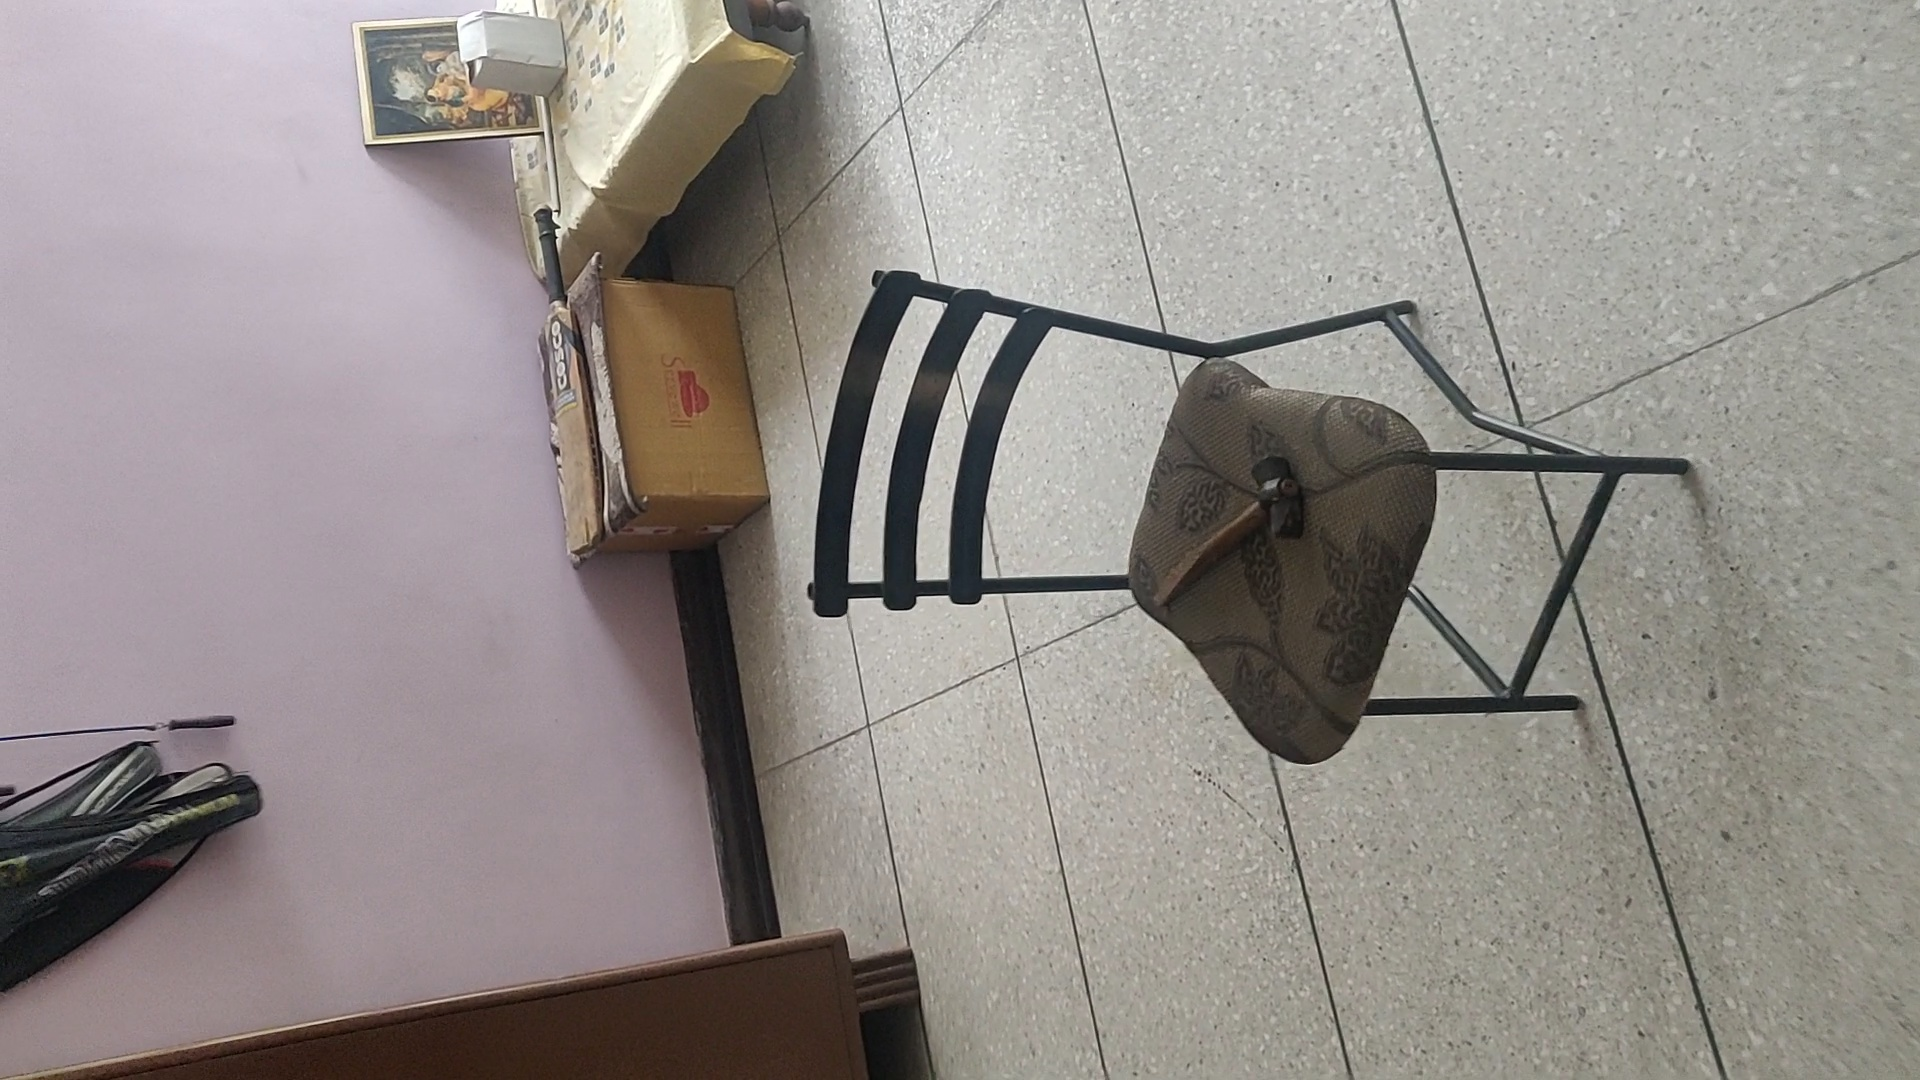hammer: (1153, 454, 1309, 607)
